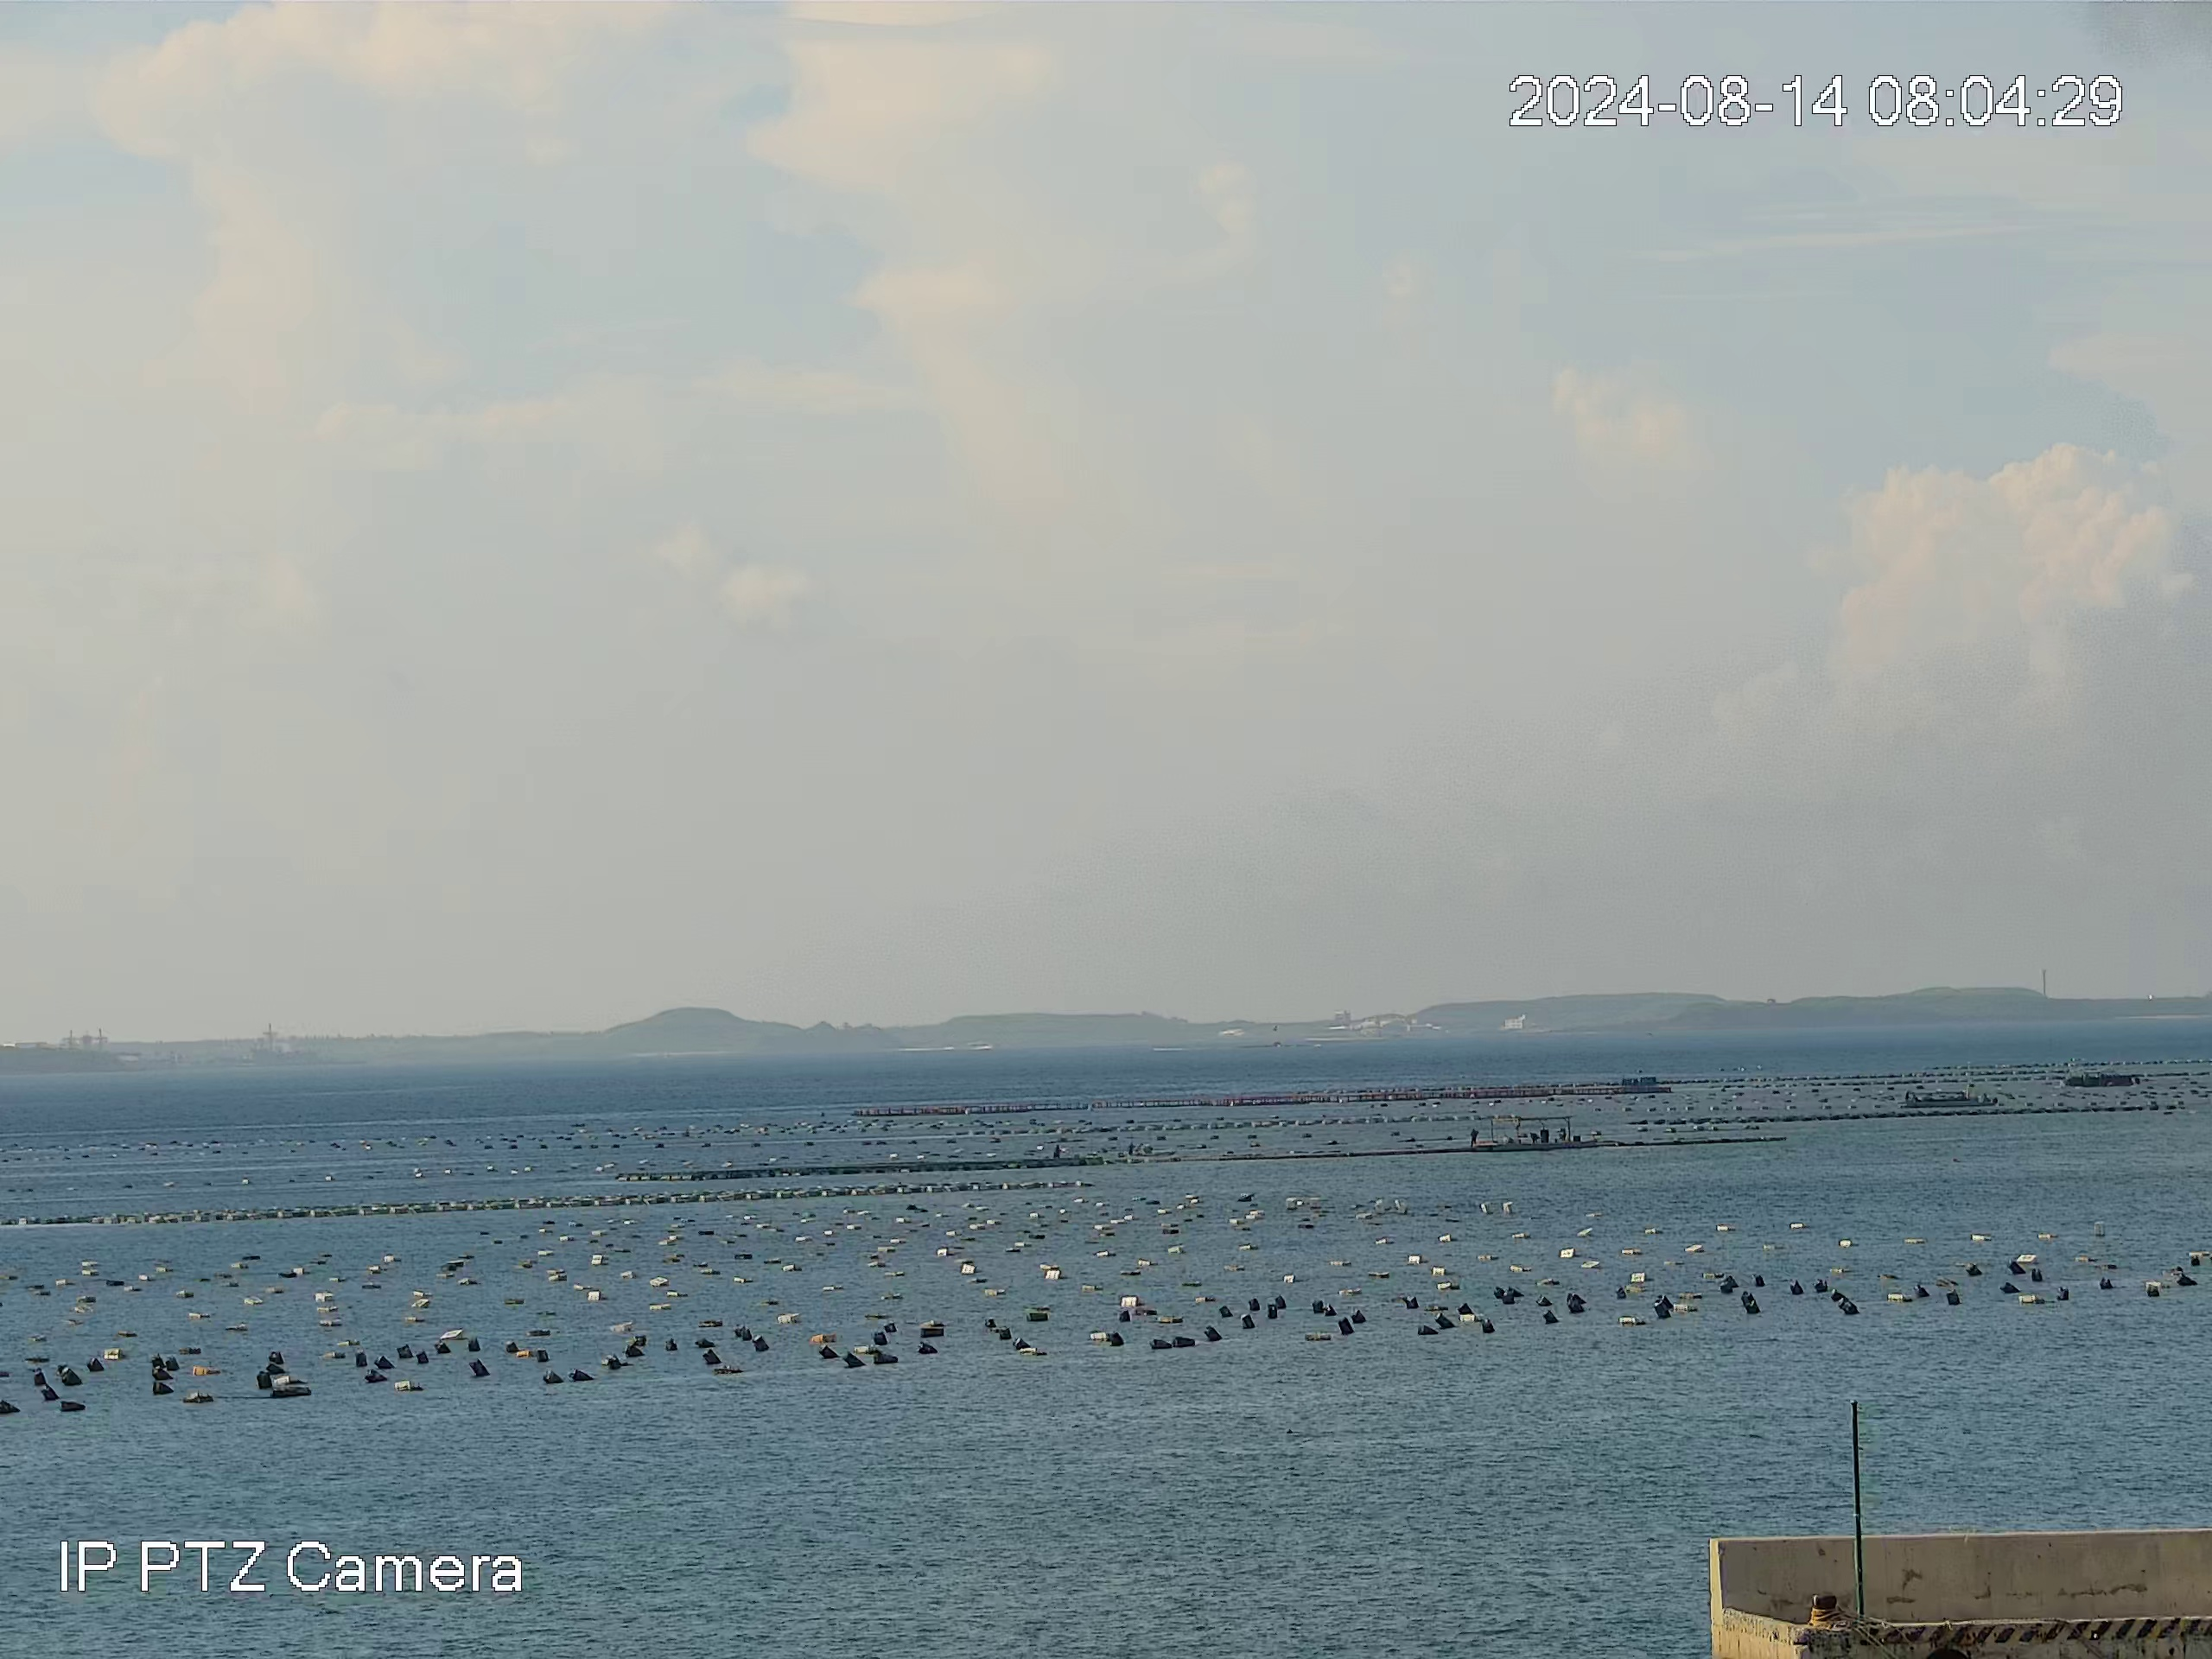boat: (1468, 1115, 1592, 1150), (1897, 1086, 2003, 1107), (2062, 1065, 2142, 1086)
